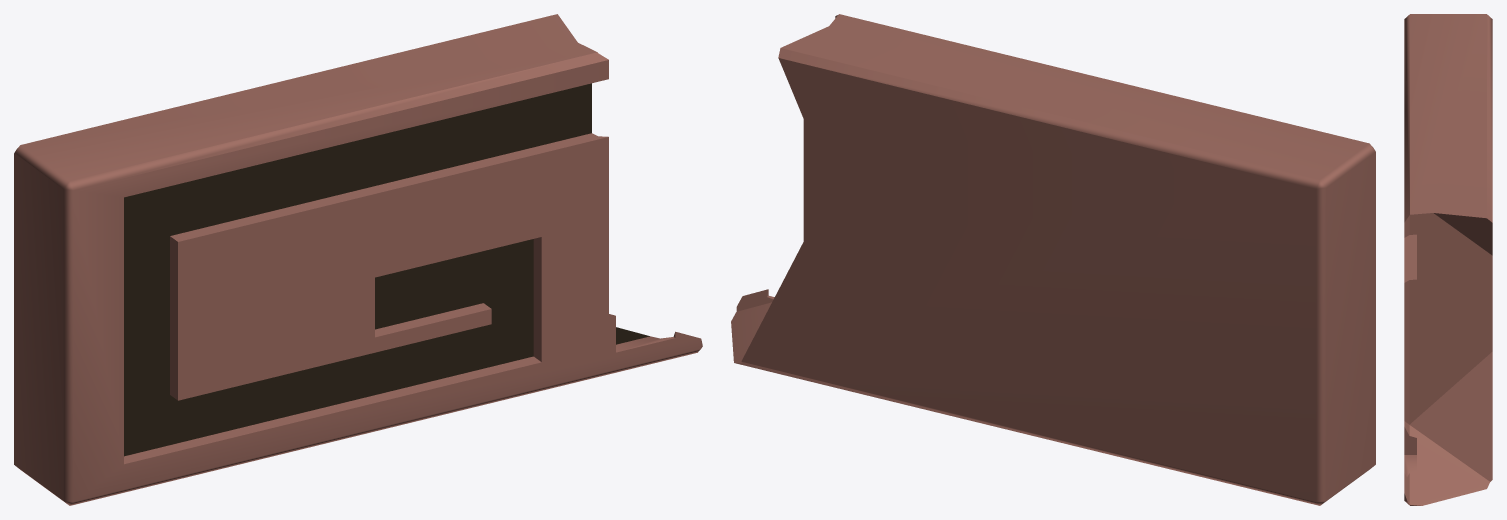
File: SM_muretto2.fbx
The picture shows the model from 3 angles, left to right: view 1: azimuth 30°, elevation 25°; view 2: azimuth 150°, elevation 25°; view 3: azimuth 270°, elevation 25°; orthographic projection. The views are drawn at different scales.
Parts seen in each view (by area): view 1: pCube57; view 2: pCube57; view 3: pCube57.
Part boxes in pixels (x1=…): pCube57: x1=14, y1=14, x2=702, y2=505; pCube57: x1=731, y1=14, x2=1375, y2=505; pCube57: x1=1404, y1=14, x2=1492, y2=505.
Size of the model in its own units: 3.6 by 1.75 by 0.5535.
